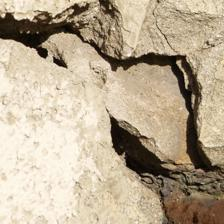Crack: (122, 49, 214, 170), (2, 3, 132, 75), (108, 108, 178, 191)
